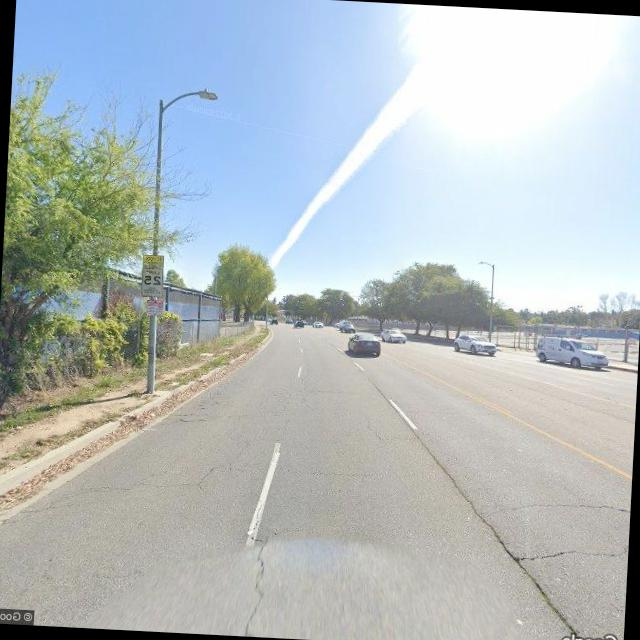crack: (34, 454, 246, 520), (490, 491, 631, 522), (242, 528, 276, 636), (512, 538, 628, 568), (280, 458, 390, 482)
